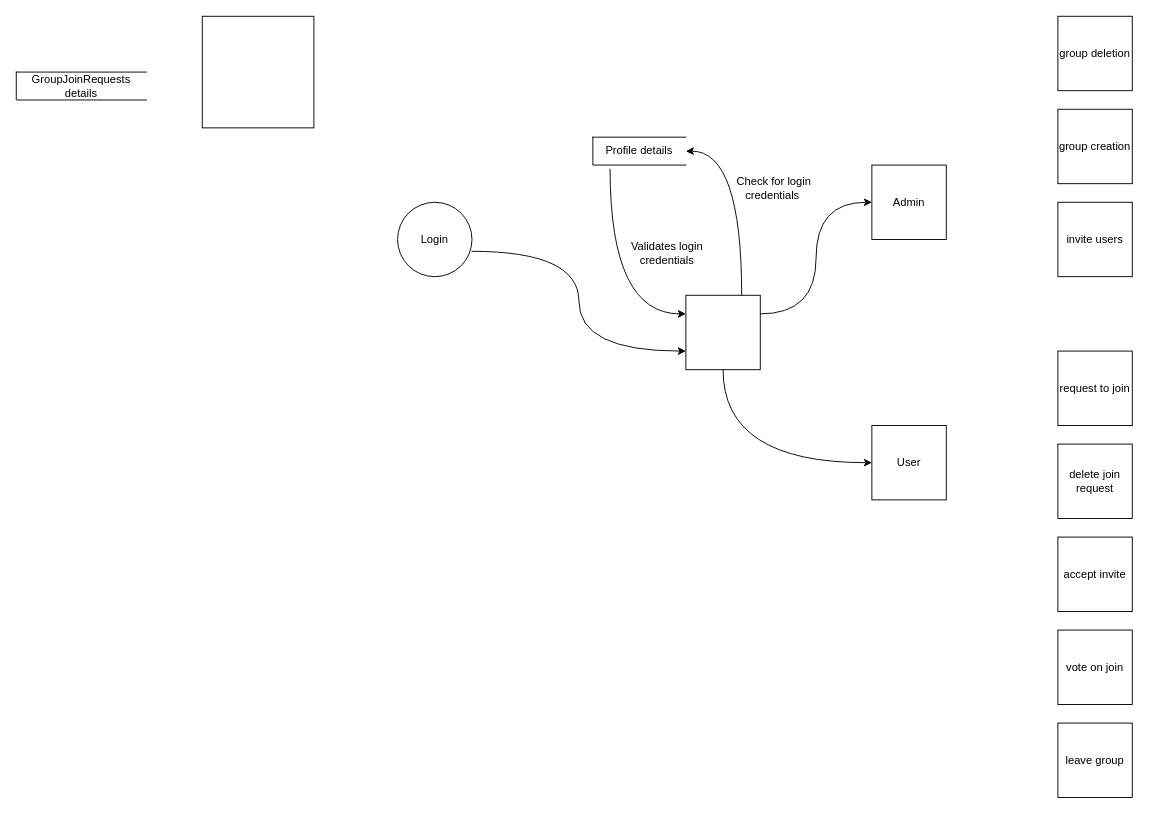
Image size: 1149x814. Some labels were removed from this diagram. The centre of each missing label's shape, as x and y in pixels:
"GroupJoinRequests" belongs at (257,71).
"Profile" belongs at (722,332).
